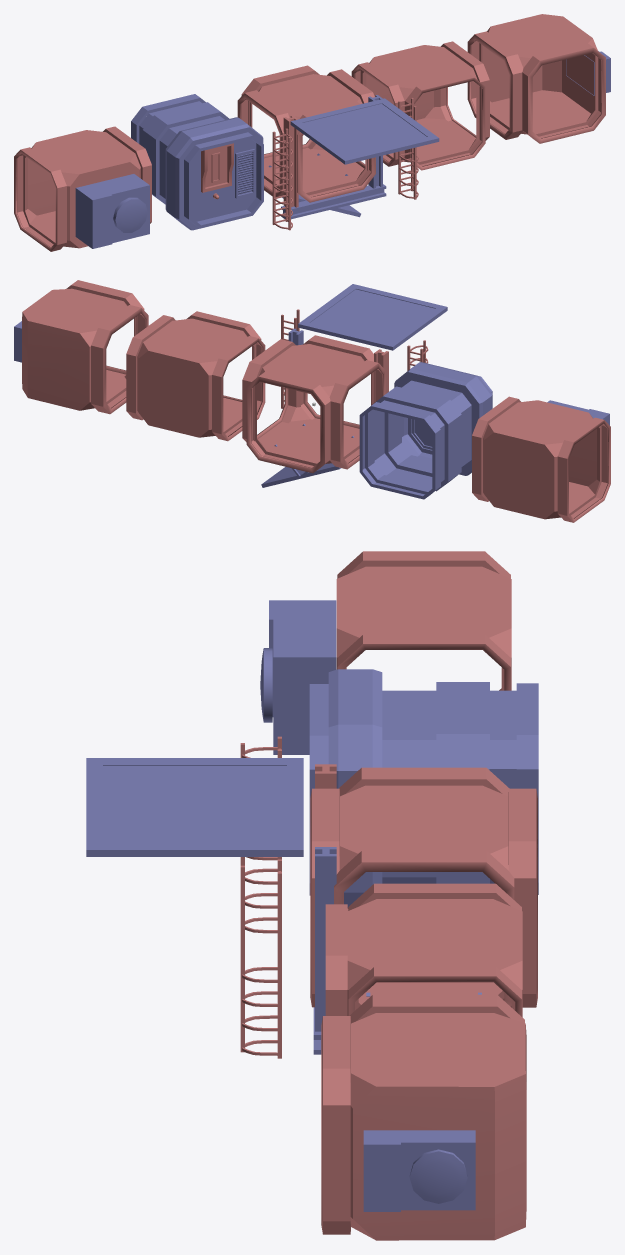
The model's file is untitleasadd.fbx.
3 views of the same model, one above another, from view 1: azimuth 30°, elevation 25°; view 2: azimuth 150°, elevation 25°; view 3: azimuth 270°, elevation 25° (orthographic). The views are drawn at different scales.
Parts seen in each view (by area): view 1: TCell; view 2: TCell; view 3: TCell.
Boxes of the visible parts, x1,y1,x2,y2 form: TCell: [14, 14, 610, 251]; TCell: [14, 280, 610, 522]; TCell: [86, 551, 538, 1240].
Bounding box in the file's own units: 48498 × 10652 × 16928.
